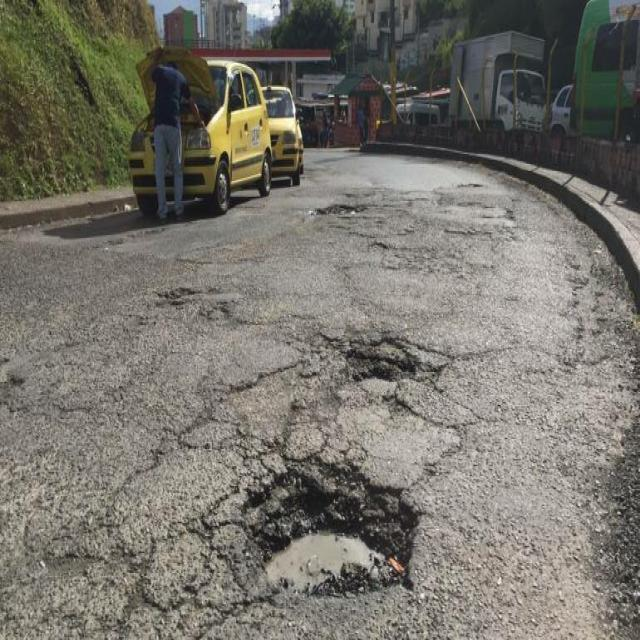Buraco: (236, 452, 420, 606), (308, 202, 372, 218)
